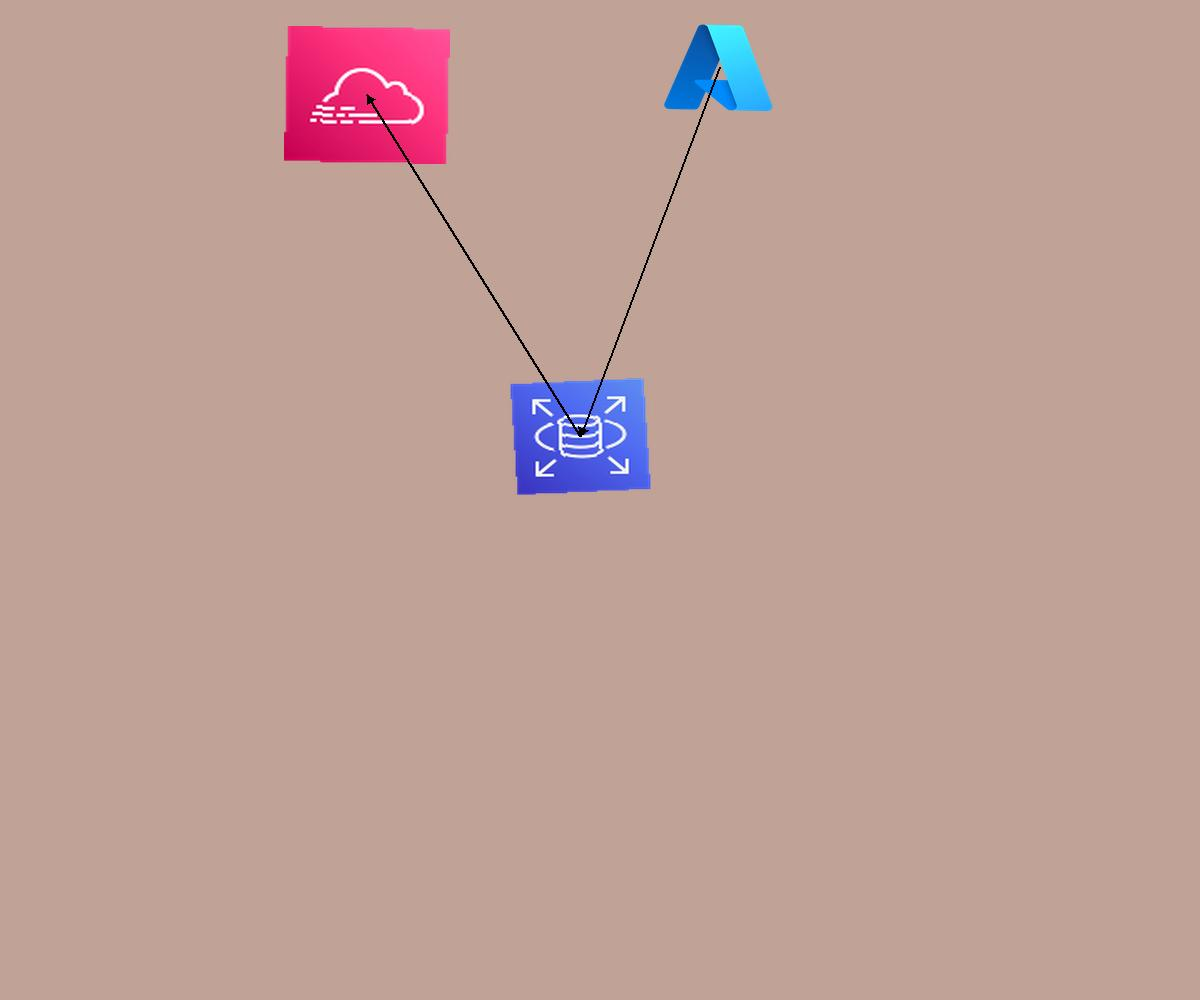AWS-CloudTrail: (284, 26, 450, 164)
AWS-RDS: (509, 377, 652, 496)
Azure_services: (659, 17, 780, 118)
